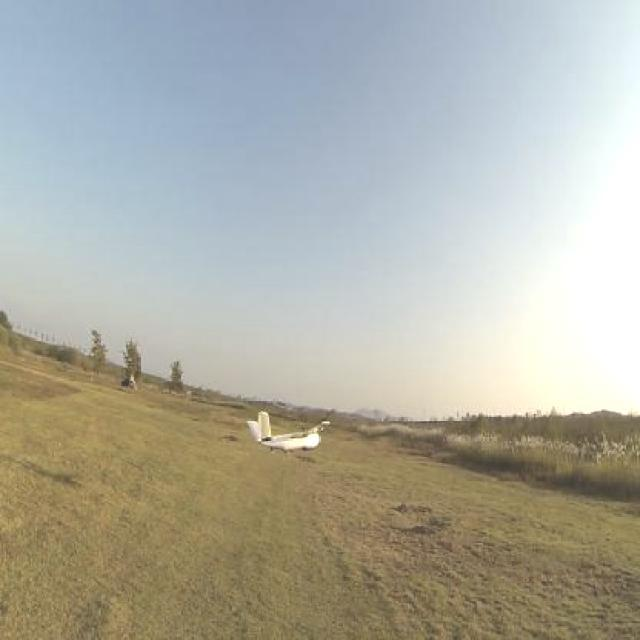iha: (276, 409, 295, 462)
